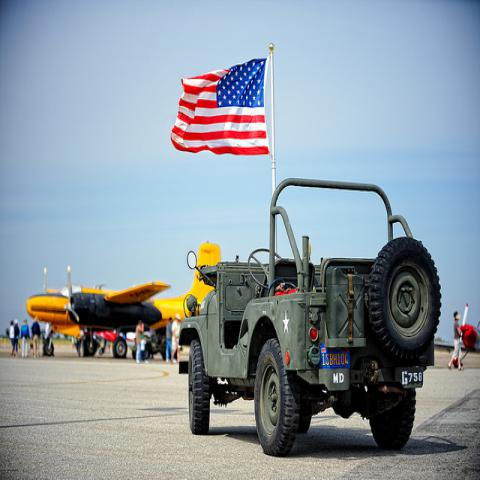truck: (178, 179, 443, 452)
